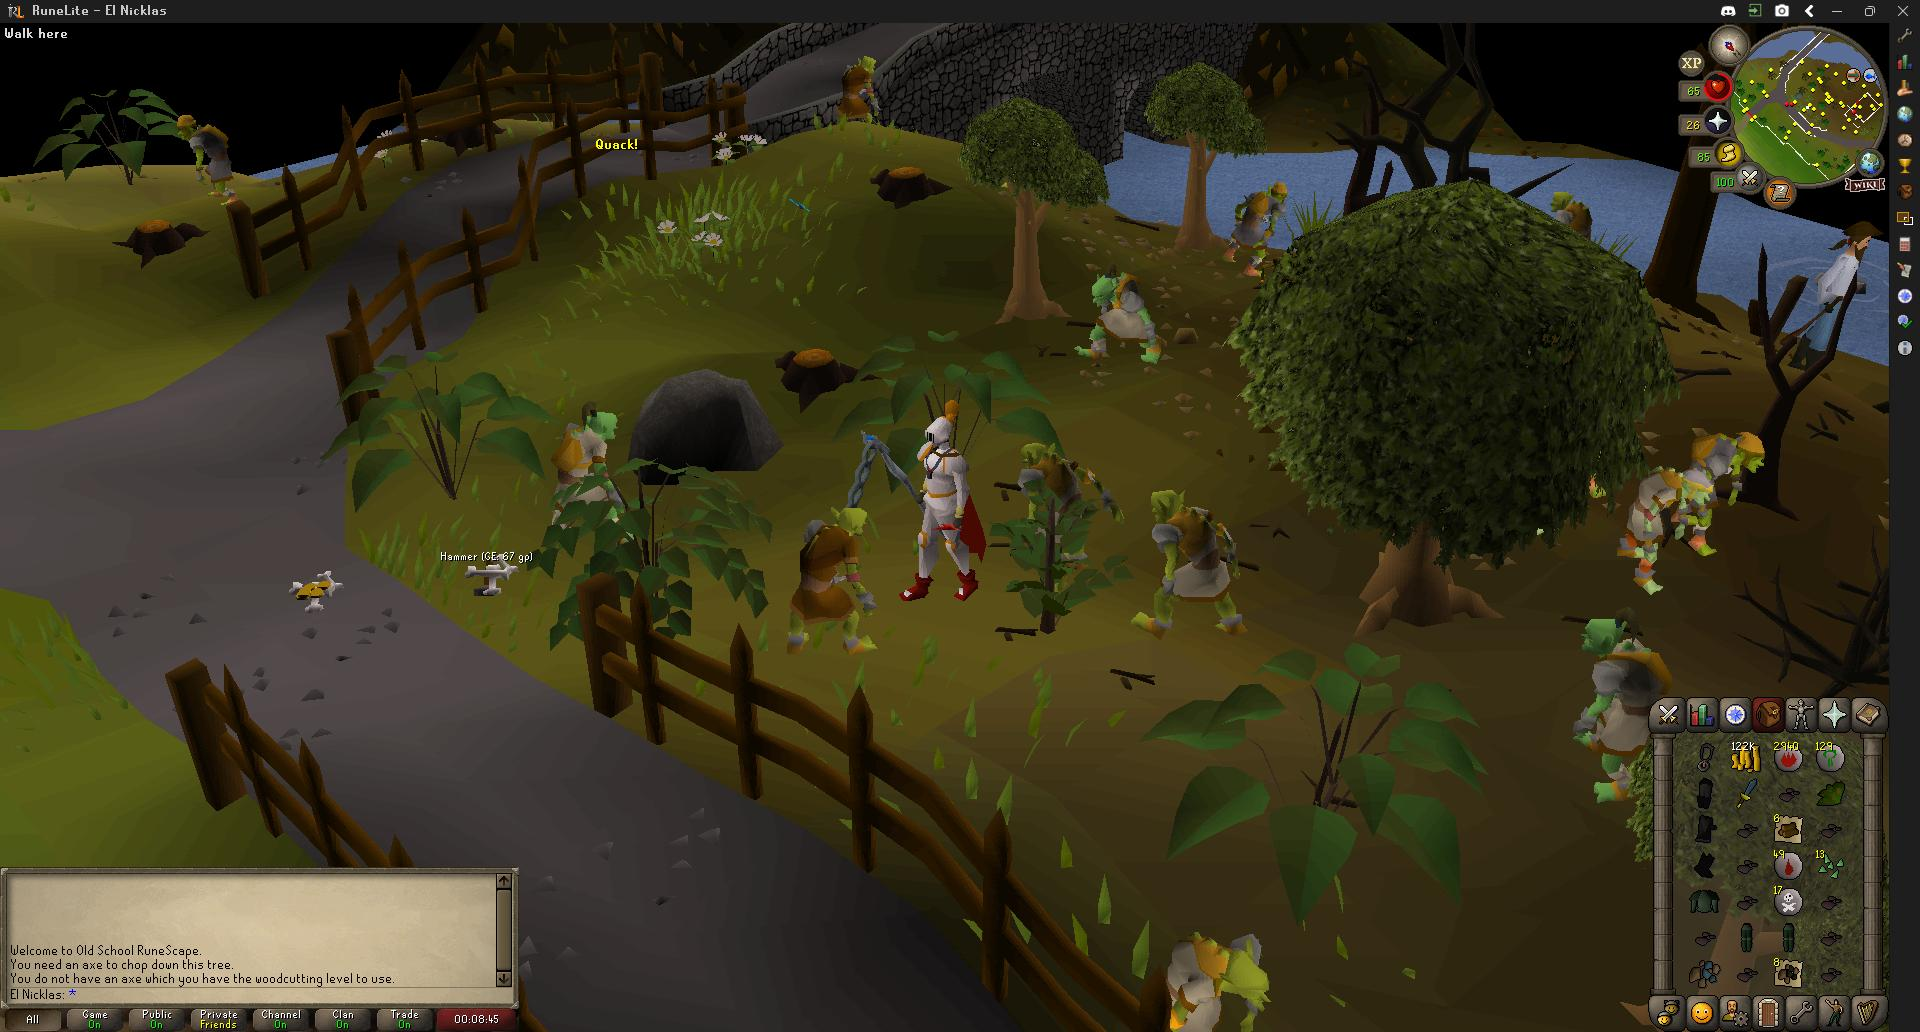goblin: (903, 404, 986, 604), (1137, 491, 1247, 634), (1565, 637, 1661, 792), (785, 510, 877, 651), (1013, 438, 1100, 564), (1164, 928, 1267, 1027), (546, 405, 620, 527), (1075, 268, 1160, 370), (1615, 465, 1680, 585), (1690, 427, 1765, 512), (1667, 460, 1723, 558), (177, 114, 233, 205), (1235, 182, 1288, 276), (837, 56, 881, 126), (1549, 192, 1593, 240)
